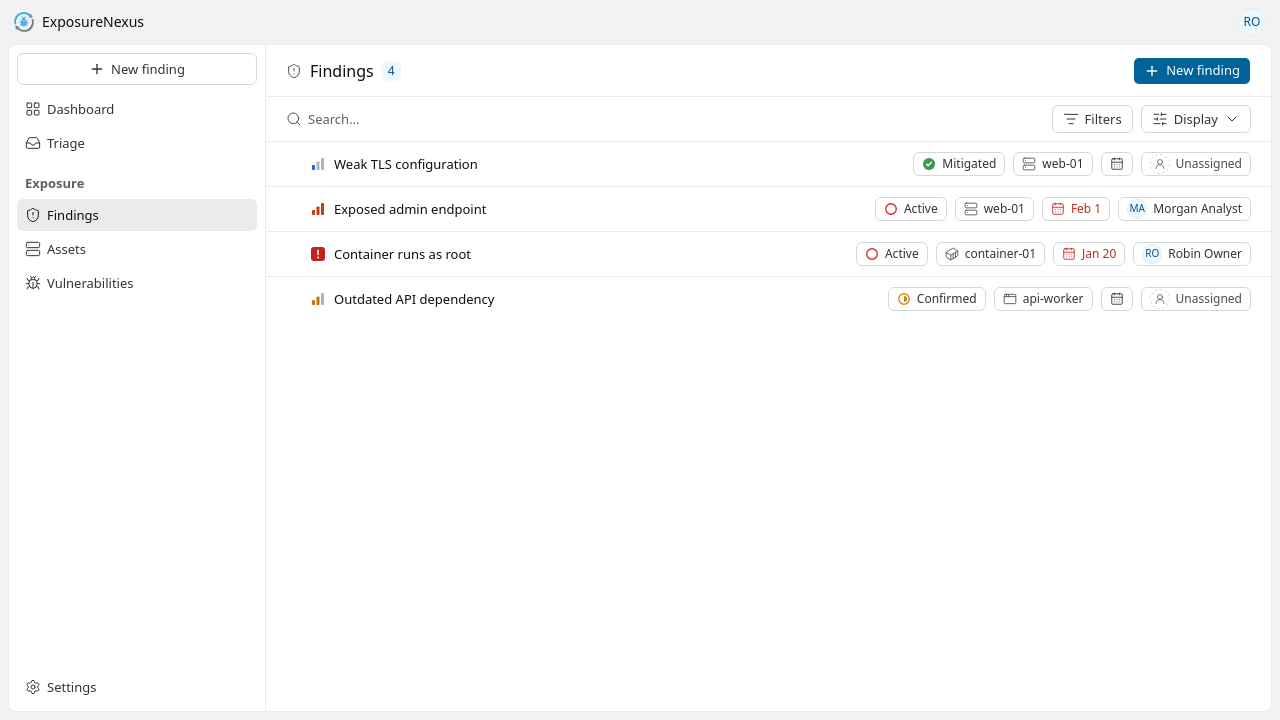
settings area › swaps the sidebar for the settings sections
What coordinates should you click on to do the following:
click the link "Settings"
I would click on:
 (61, 687)
Its box is [25,678,96,696].
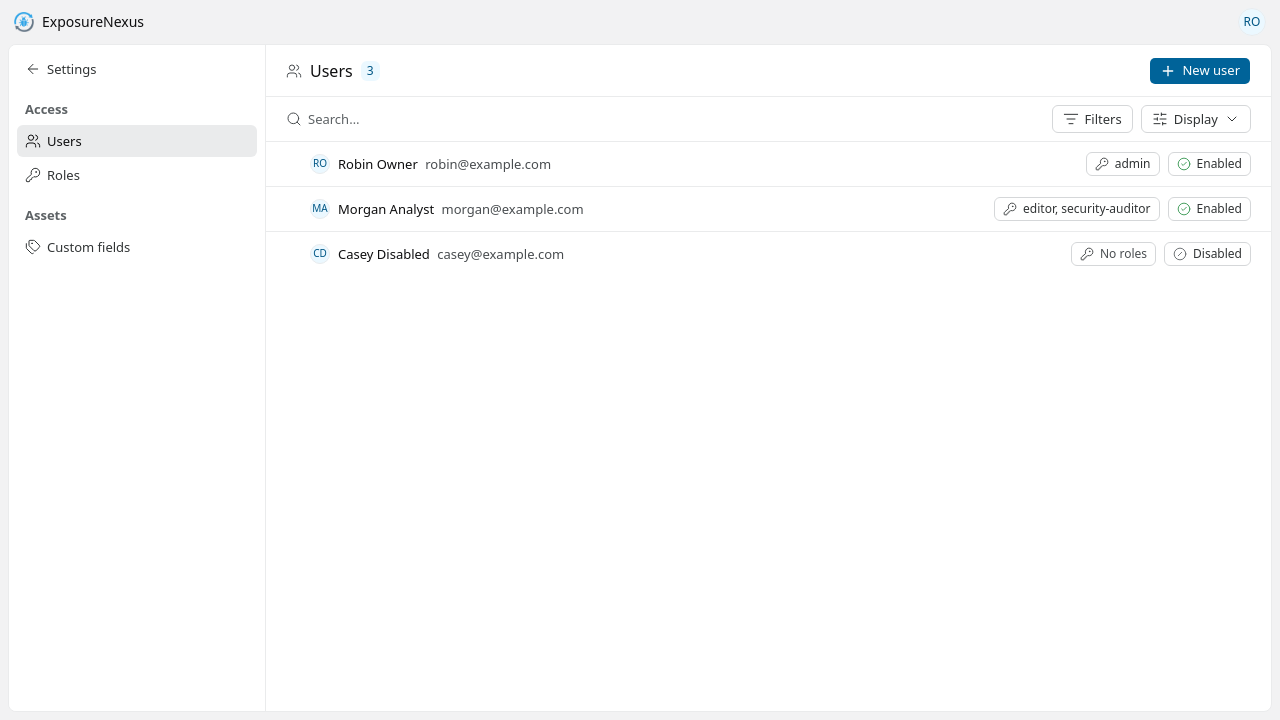
Check: the link with aria-label "Leave settings" is shown, box [25,60,96,78]
Check: the text "Access" is shown, box [25,100,68,118]
Check: the text "Assets" is shown, box [25,206,67,224]
